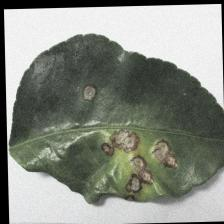canker: (67, 84, 187, 206)
